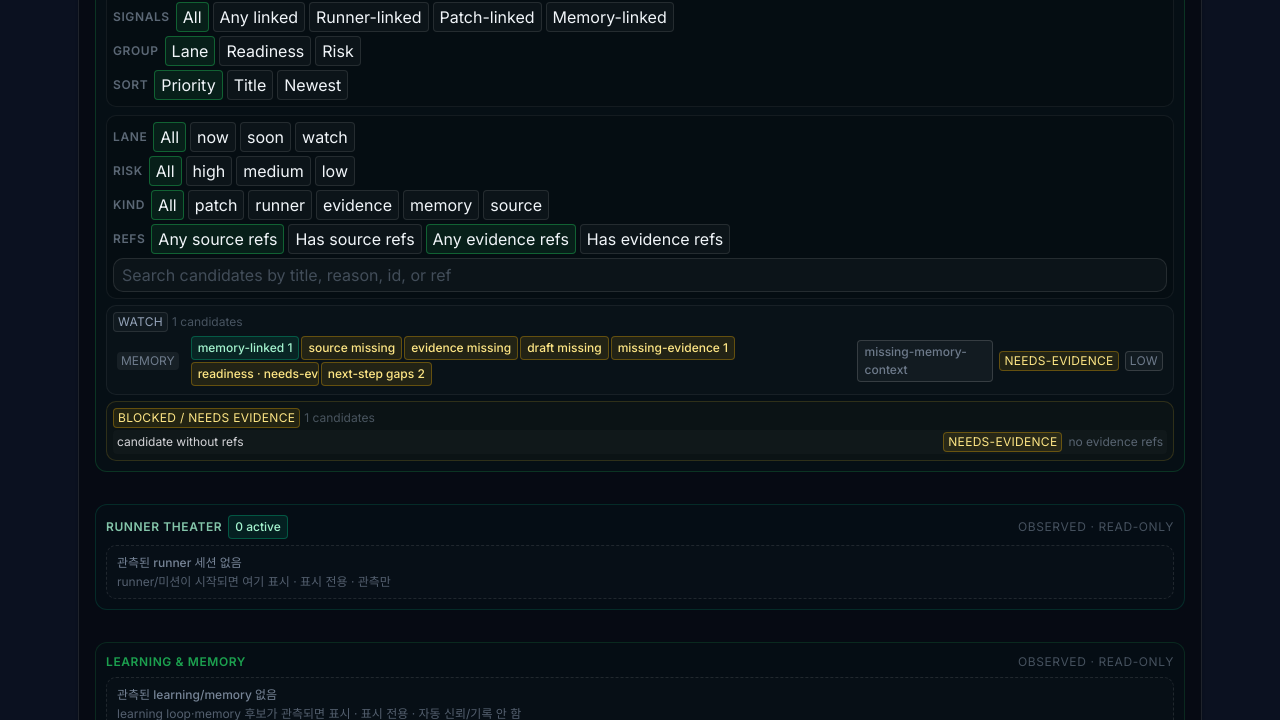
Test case: E6 — WorkItem Candidate detail / link graph › shows honest empty states when source/evidence refs and createdAt are missing
The width and height of the screenshot is (1280, 720).
(page scrolled)
Click the button with test id "wic-row-wic-empty-refs": (640, 360) [113, 334, 1167, 388]
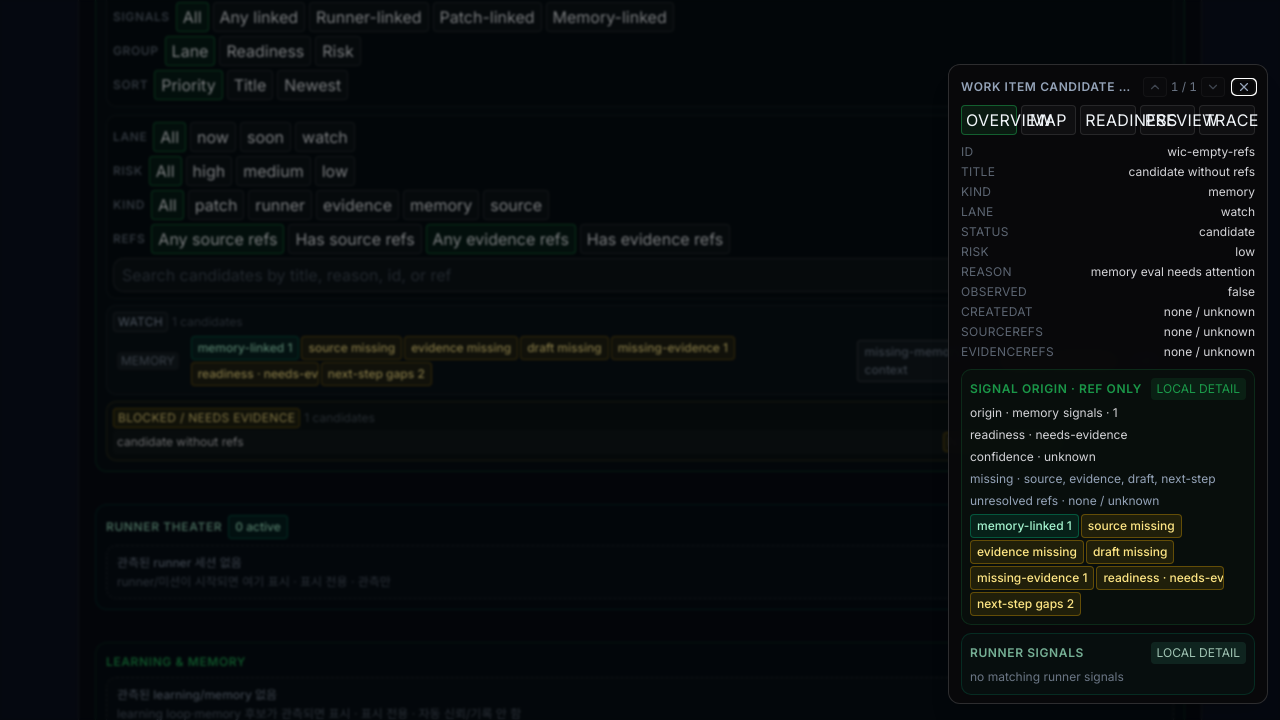
Expected: the element with test id "wic-detail-field-createdAt" shows "unknown", [1164, 304, 1255, 319]
Expected: the element with test id "wic-detail-field-sourceRefs" shows "none / unknown", [1164, 324, 1255, 339]
Expected: the element with test id "wic-detail-field-evidenceRefs" shows "none / unknown", [1164, 344, 1255, 359]
